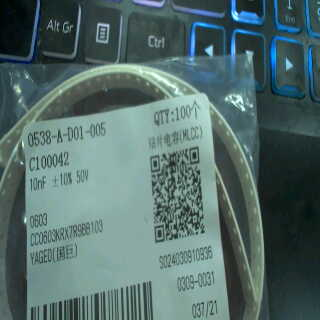10nF: (29, 174, 52, 191)
